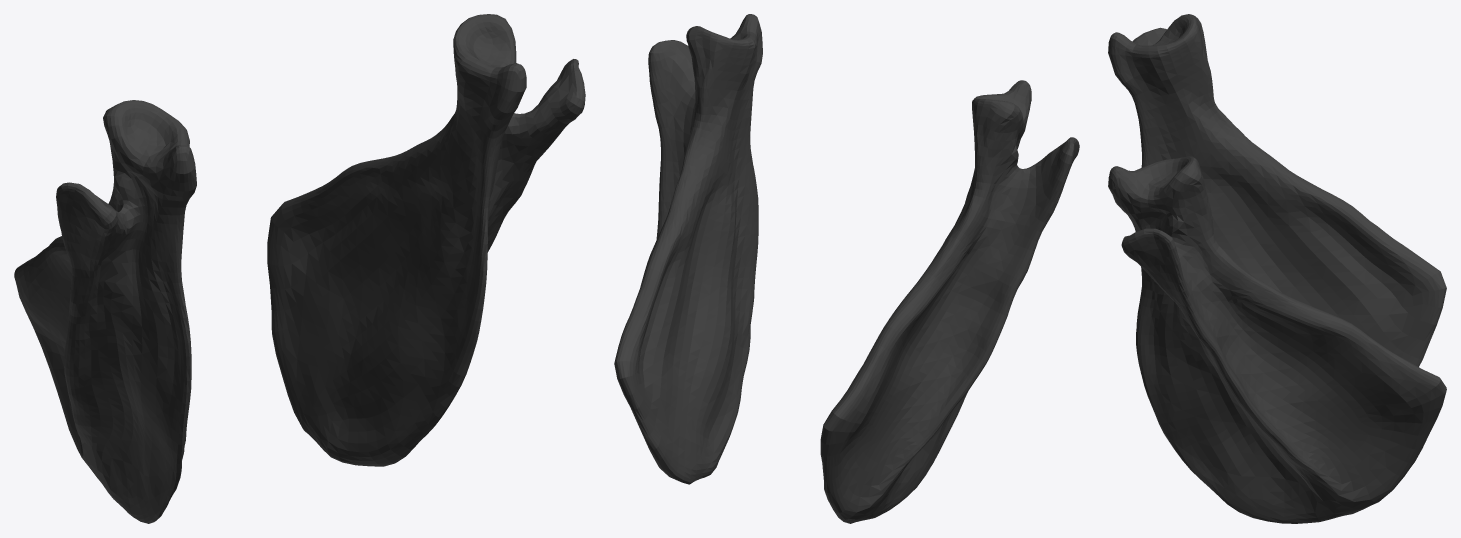
File: Scapula_1.glb
3 renders of one model, left to right at view 1: azimuth 30°, elevation 25°; view 2: azimuth 150°, elevation 25°; view 3: azimuth 270°, elevation 25°, orthographic. The views are drawn at different scales.
Parts seen in each view (by area): view 1: Scapula_1; view 2: Scapula_1; view 3: Scapula_1.
Boxes of the visible parts, x1,y1,x2,y2 form: Scapula_1: (14, 14, 585, 523); Scapula_1: (614, 14, 1079, 523); Scapula_1: (1108, 14, 1446, 523).
Bounding box in the file's own units: 0.00448 × 0.00392 × 0.00308.
1 material, 1 textured.
